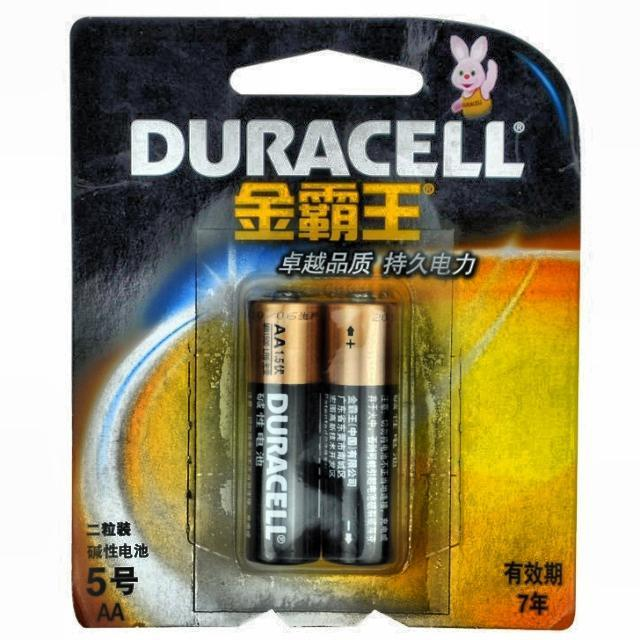battery: (321, 304, 394, 565), (250, 302, 321, 564)
